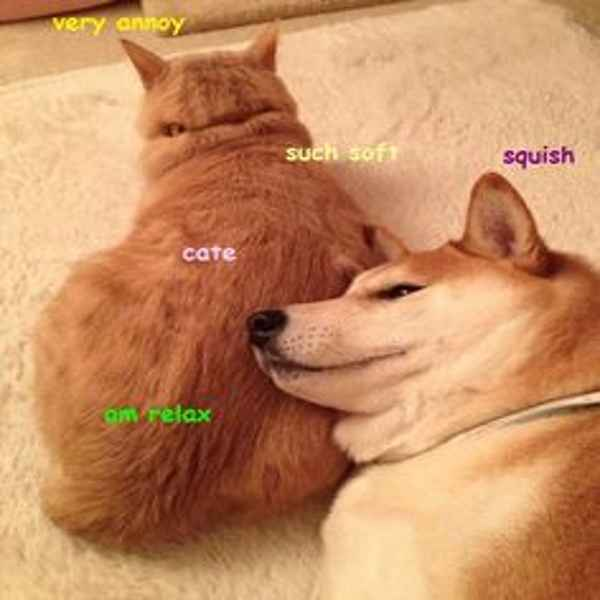doge: (229, 168, 578, 415)
